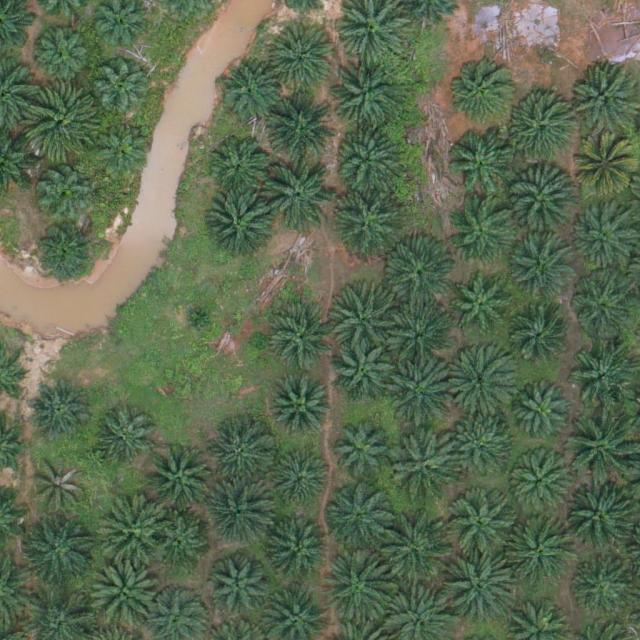Dead: (33, 461, 88, 516)
Healthy: (565, 481, 636, 552), (391, 429, 462, 500), (336, 123, 407, 194), (330, 63, 401, 134), (565, 414, 635, 485), (504, 517, 575, 587), (449, 198, 519, 269), (445, 346, 515, 417), (448, 492, 518, 563), (387, 244, 457, 315), (388, 356, 458, 427), (380, 512, 450, 583), (320, 554, 390, 625), (324, 481, 394, 552), (331, 279, 401, 350), (204, 192, 274, 263), (204, 479, 275, 549), (97, 495, 167, 566), (25, 515, 95, 586), (501, 94, 571, 165), (447, 55, 517, 126), (266, 91, 336, 162), (267, 23, 337, 94), (27, 86, 97, 157), (569, 339, 639, 409), (508, 168, 578, 238), (447, 132, 517, 202), (449, 553, 519, 623), (331, 187, 401, 257), (261, 160, 331, 230), (145, 444, 215, 514), (89, 557, 159, 627), (570, 67, 640, 137), (569, 205, 632, 268), (570, 275, 633, 338), (332, 341, 395, 404), (92, 407, 155, 470), (573, 558, 635, 621), (512, 241, 574, 304), (509, 453, 571, 516), (450, 275, 512, 338), (332, 422, 394, 485), (270, 310, 333, 372), (271, 450, 333, 513), (208, 136, 270, 199), (210, 425, 272, 488), (208, 560, 270, 623), (34, 220, 96, 283), (220, 61, 282, 124), (507, 312, 569, 374), (451, 420, 513, 482), (389, 305, 451, 367), (271, 378, 333, 440), (269, 523, 331, 585), (28, 379, 90, 441), (34, 23, 96, 85), (515, 387, 570, 442), (153, 515, 208, 570), (36, 163, 91, 218), (97, 122, 152, 177), (95, 64, 150, 119)
Small: (182, 302, 213, 334)
Yellow: (573, 139, 635, 201)
